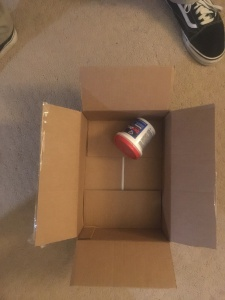innerbox: (79, 111, 171, 242)
outerbox: (37, 66, 217, 288)
product: (115, 116, 156, 159)
